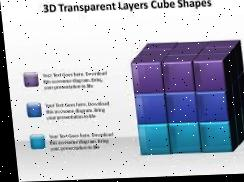cube: (128, 42, 244, 158)
